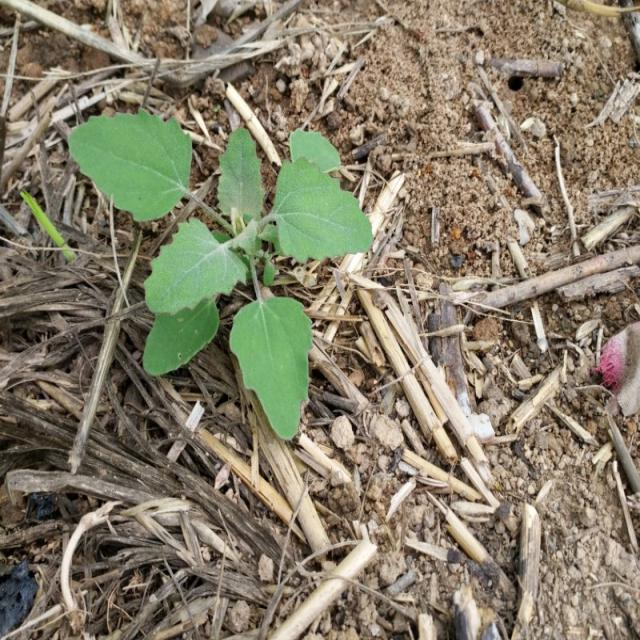ca: (66, 108, 376, 443)
